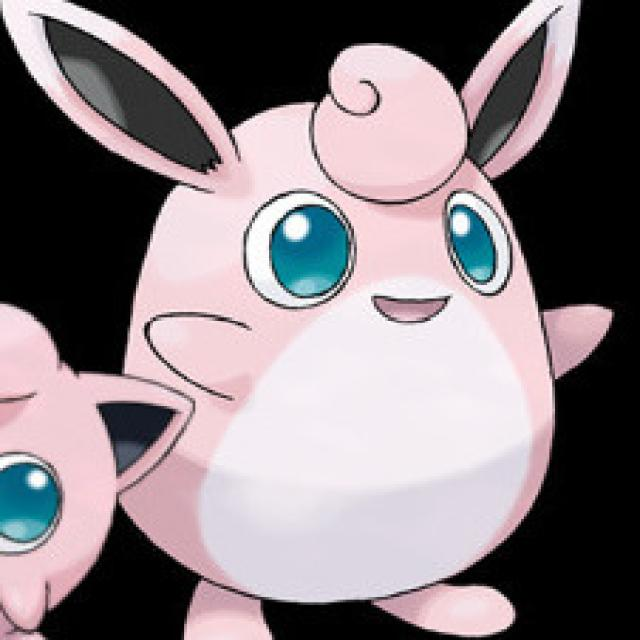Wigglytuff: (98, 45, 554, 640)
